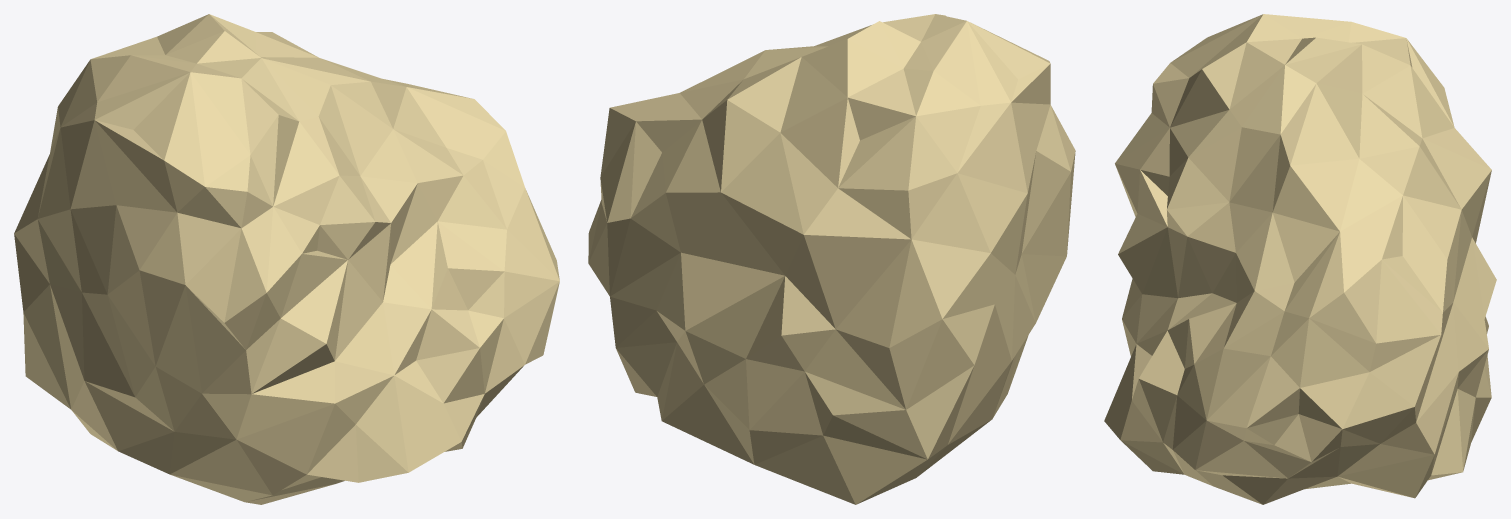
Rendered from Asteroid (61).fbx.
3 views of the same model, side by side, from view 1: azimuth 30°, elevation 25°; view 2: azimuth 150°, elevation 25°; view 3: azimuth 270°, elevation 25° (orthographic). The views are drawn at different scales.
Visible parts, largest first — view 1: Asteroid192; view 2: Asteroid192; view 3: Asteroid192.
Boxes of the visible parts, bbox=[...] form: Asteroid192: bbox=[14, 14, 559, 504]; Asteroid192: bbox=[588, 14, 1075, 504]; Asteroid192: bbox=[1104, 14, 1496, 504].
Bounding box in the file's own units: 548 × 530 × 444.
